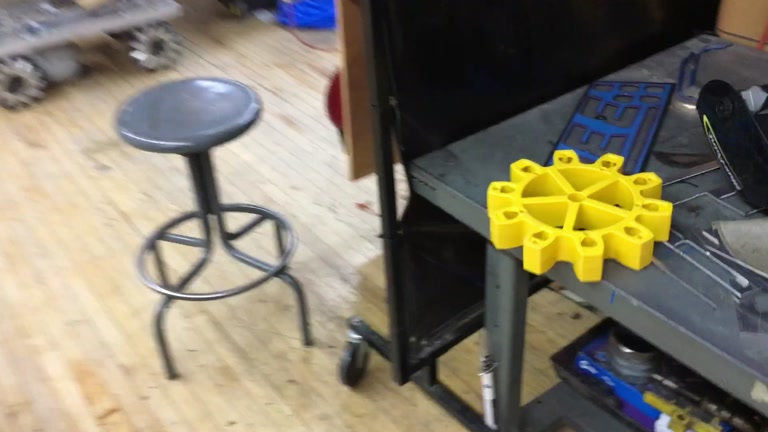gear: (487, 149, 673, 283)
